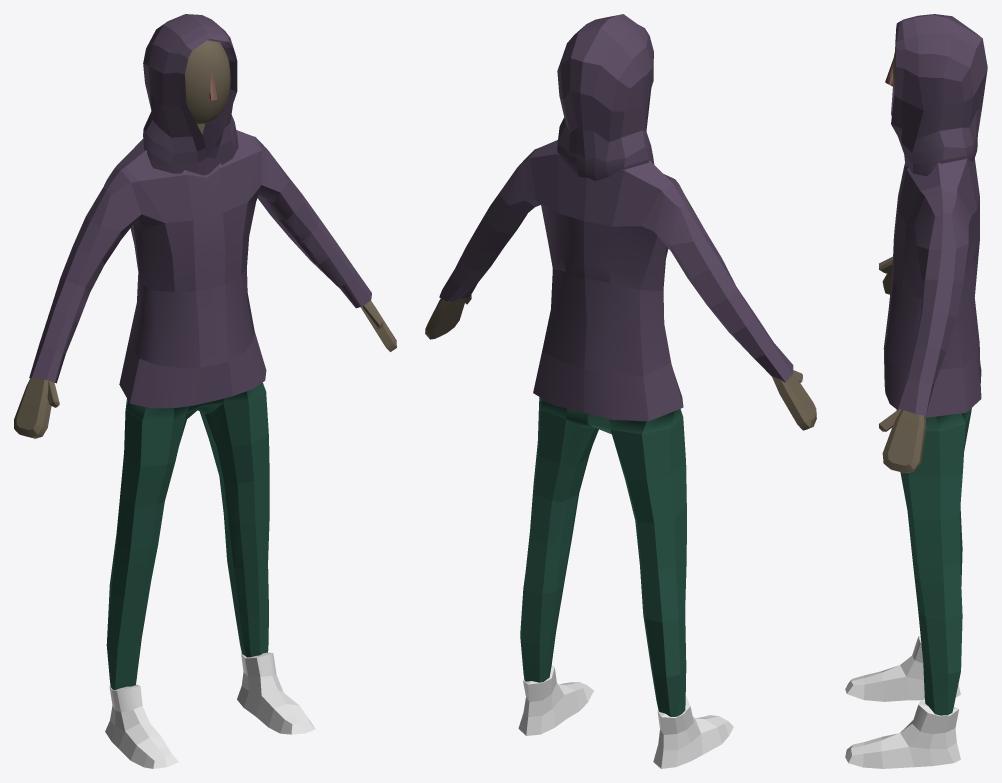
The model's file is OzFinalMerged.fbx.
The picture shows the model from 3 angles, left to right: view 1: azimuth 30°, elevation 25°; view 2: azimuth 150°, elevation 25°; view 3: azimuth 270°, elevation 25°; orthographic projection. The views are drawn at different scales.
Parts seen in each view (by area): view 1: head; view 2: head; view 3: head.
Part boxes in pixels (bbox=[...]): head: bbox=[14, 14, 396, 768]; head: bbox=[425, 14, 816, 768]; head: bbox=[845, 14, 987, 768].
Bounding box in the file's own units: 1.94 × 3.48 × 0.6306.
